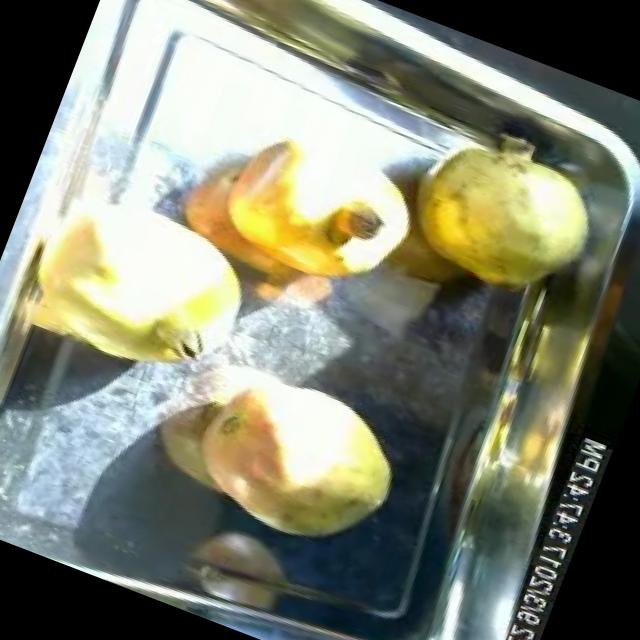fruit: (0, 152, 280, 413), (159, 336, 432, 578), (384, 102, 634, 330), (193, 102, 434, 314)
